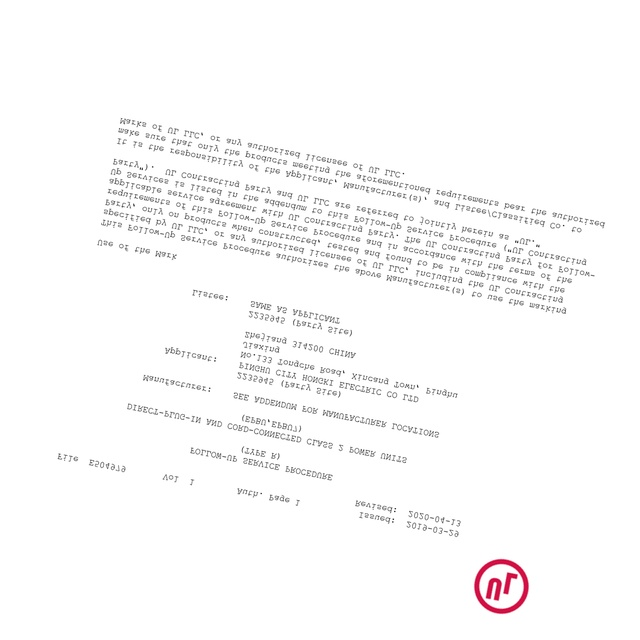ul: (472, 557, 530, 612)
